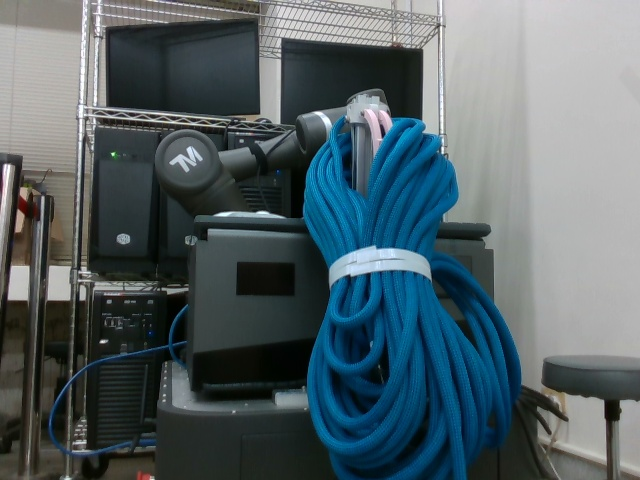rope: (298, 109, 527, 480)
